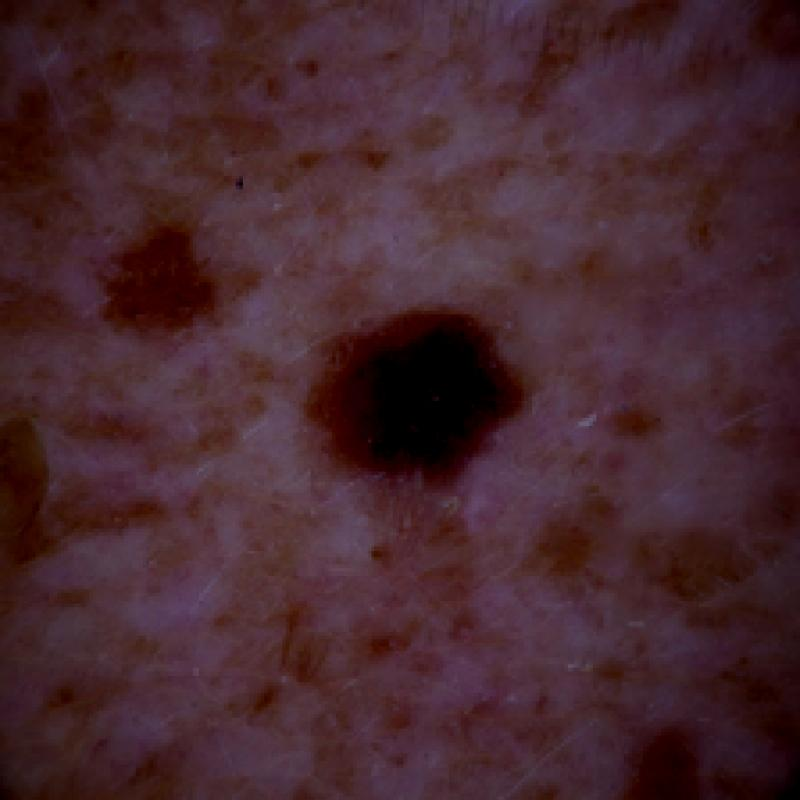benign: (280, 283, 550, 537), (87, 186, 225, 364)
